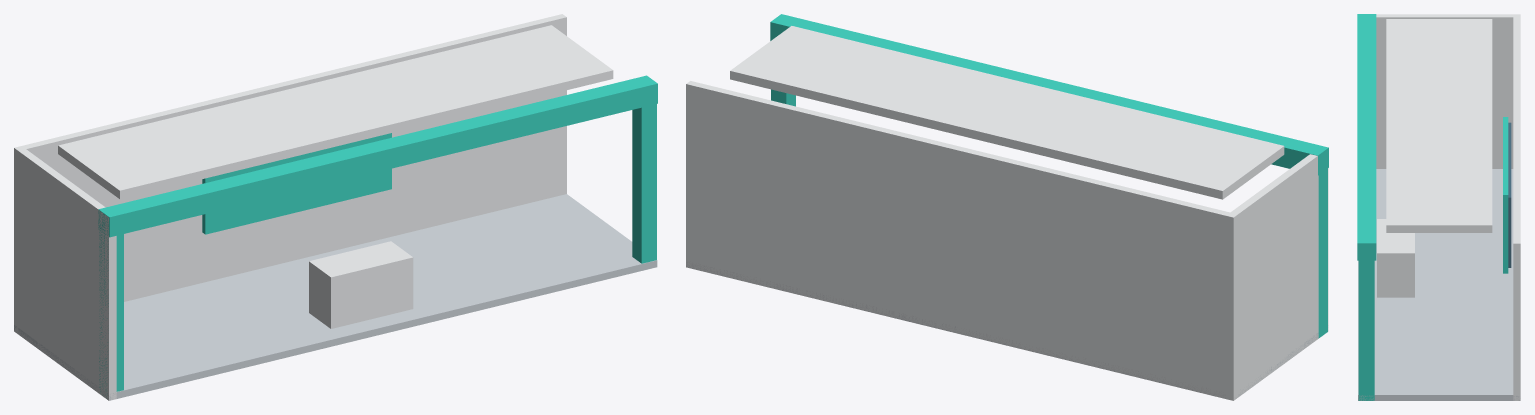
3 renders of one model, left to right at view 1: azimuth 30°, elevation 25°; view 2: azimuth 150°, elevation 25°; view 3: azimuth 270°, elevation 25°, orthographic. The views are drawn at different scales.
Visible parts, largest first — view 1: Exhibition Booth Concept; view 2: Exhibition Booth Concept; view 3: Exhibition Booth Concept.
Part boxes in pixels (x1=…): Exhibition Booth Concept: x1=14, y1=14, x2=657, y2=400; Exhibition Booth Concept: x1=686, y1=14, x2=1328, y2=400; Exhibition Booth Concept: x1=1357, y1=14, x2=1520, y2=400.
Size of the model in its own units: 10 by 3.34 by 3.01.
